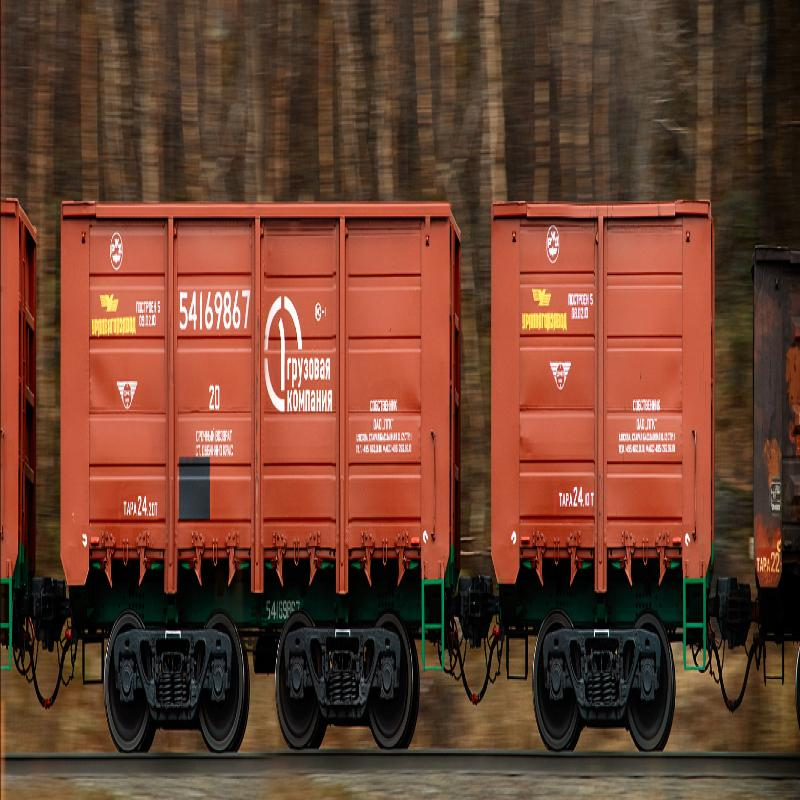train: (48, 158, 473, 764), (485, 158, 735, 770)
